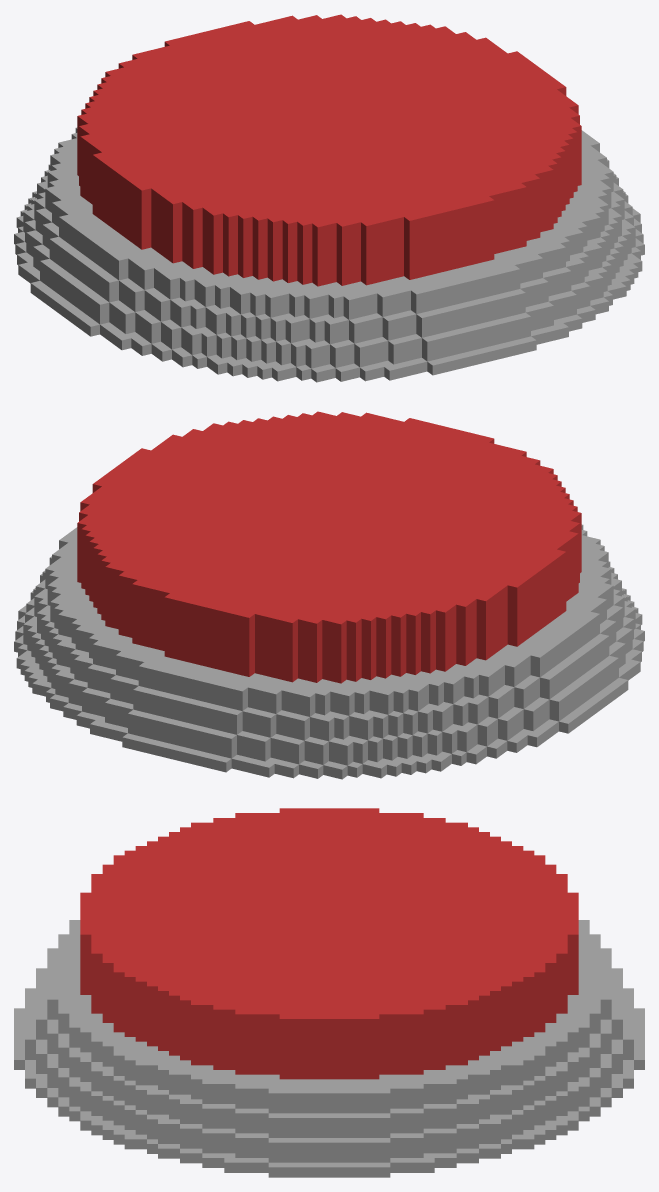
Rendered from button basic.obj.
The picture shows the model from 3 angles, top to bottom: view 1: azimuth 30°, elevation 25°; view 2: azimuth 150°, elevation 25°; view 3: azimuth 270°, elevation 25°; orthographic projection.
Parts seen in each view (by area): view 1: button basic; view 2: button basic; view 3: button basic.
Boxes of the visible parts, x1,y1,x2,y2 form: button basic: [14, 14, 644, 382]; button basic: [14, 411, 644, 779]; button basic: [14, 808, 644, 1177].
Bounding box in the file's own units: 57 × 13 × 57.
Materials: 1 (1 with a texture image).
